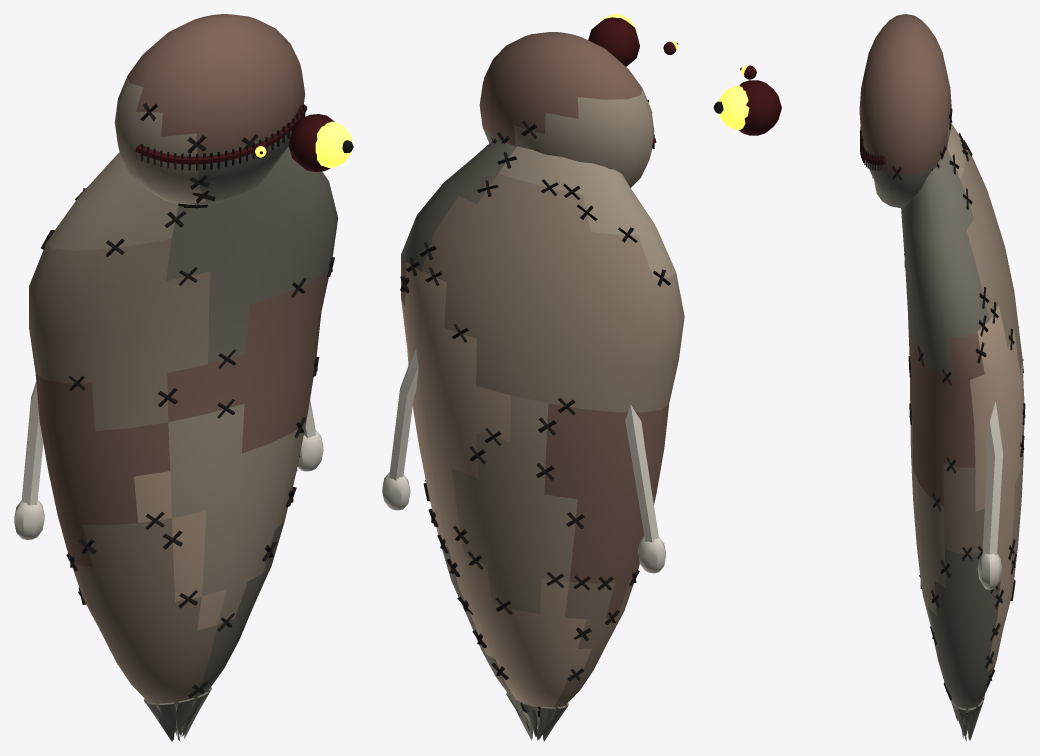
The model's file is stitchface_body.glb.
The picture shows the model from 3 angles, left to right: view 1: azimuth 30°, elevation 25°; view 2: azimuth 150°, elevation 25°; view 3: azimuth 270°, elevation 25°; orthographic projection. The views are drawn at different scales.
Parts seen in each view (by area): view 1: stitchface_body, eye_big, trophy_5, trophy_1; view 2: stitchface_body, trophy_5, trophy_1, eye_big; view 3: stitchface_body, trophy_1, eye_big.
Part boxes in pixels (<box>): stitchface_body: <box>29,14,338,741</box>; eye_big: <box>288,114,353,171</box>; trophy_5: <box>14,382,44,539</box>; trophy_1: <box>297,399,323,471</box>; stitchface_body: <box>400,32,684,741</box>; trophy_5: <box>625,404,665,573</box>; trophy_1: <box>382,349,418,510</box>; eye_big: <box>588,14,639,66</box>; stitchface_body: <box>859,14,1025,741</box>; trophy_1: <box>977,401,1003,589</box>; eye_big: <box>713,80,781,135</box>.
Size of the model in its own units: 0.6108 by 1.41 by 0.557.
